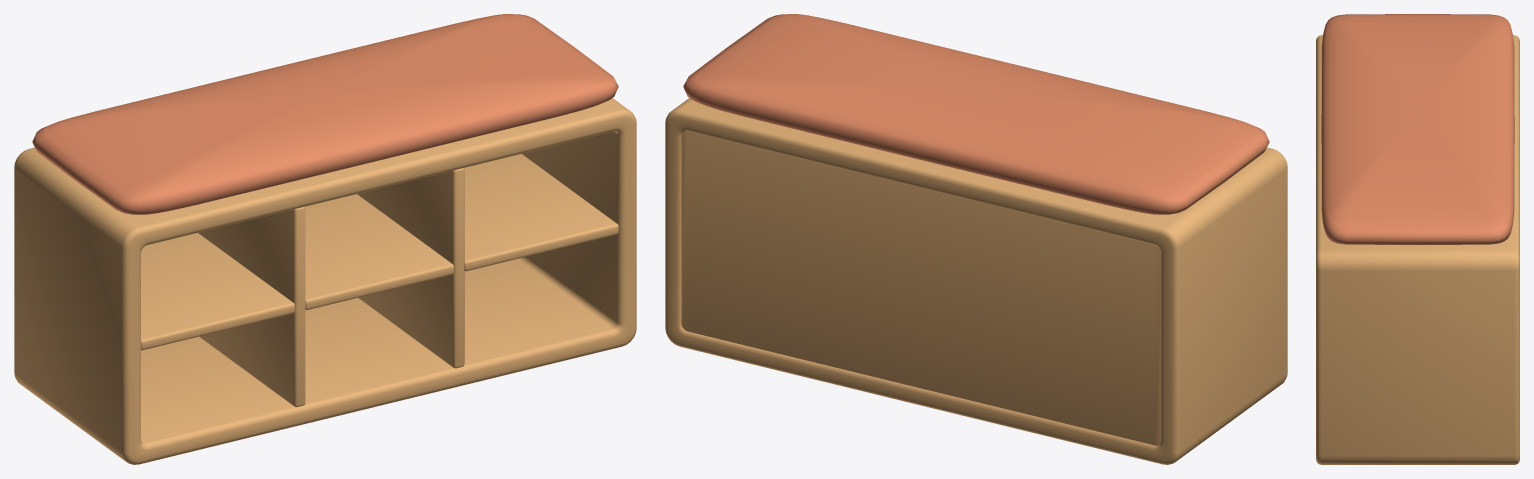
Rendered from banco_sapateira_nichos_madeira.glb.
The picture shows the model from 3 angles, left to right: view 1: azimuth 30°, elevation 25°; view 2: azimuth 150°, elevation 25°; view 3: azimuth 270°, elevation 25°; orthographic projection. The views are drawn at different scales.
Visible parts, largest first — view 1: banco_sapateira_nichos_madeira; view 2: banco_sapateira_nichos_madeira; view 3: banco_sapateira_nichos_madeira.
Part boxes in pixels (x1,y1,x2,y2): banco_sapateira_nichos_madeira: [14, 14, 636, 464]; banco_sapateira_nichos_madeira: [665, 14, 1287, 464]; banco_sapateira_nichos_madeira: [1316, 14, 1519, 464].
Bounding box in the file's own units: 1 × 0.508 × 0.38.
1 material, 1 textured.
